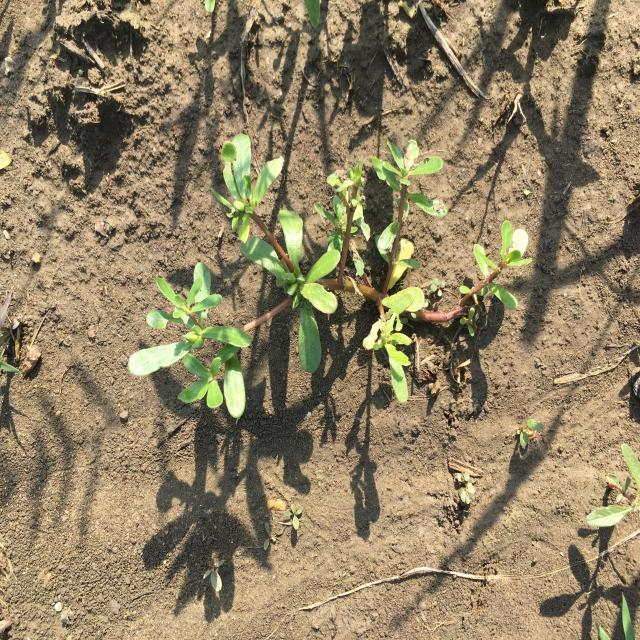Purslane: (126, 130, 534, 422)
SpottedSpurge: (456, 472, 477, 509)
Waterhemp: (583, 438, 638, 534)
